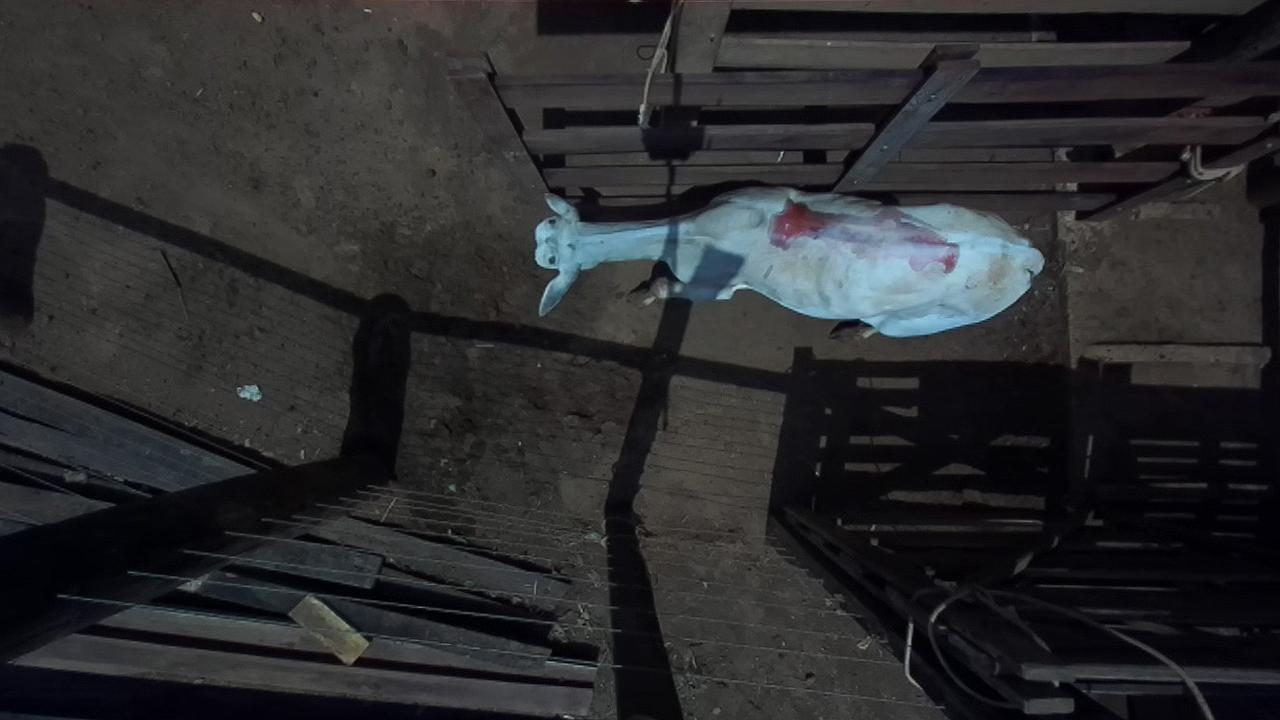cattle: (531, 182, 1045, 339)
